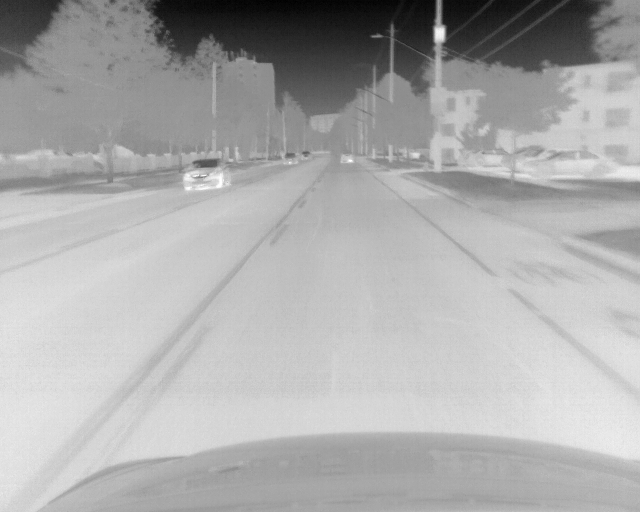car: (522, 148, 618, 180), (182, 158, 232, 191), (507, 146, 553, 174), (466, 146, 504, 165), (339, 151, 353, 164), (283, 152, 297, 165), (300, 150, 315, 161)
